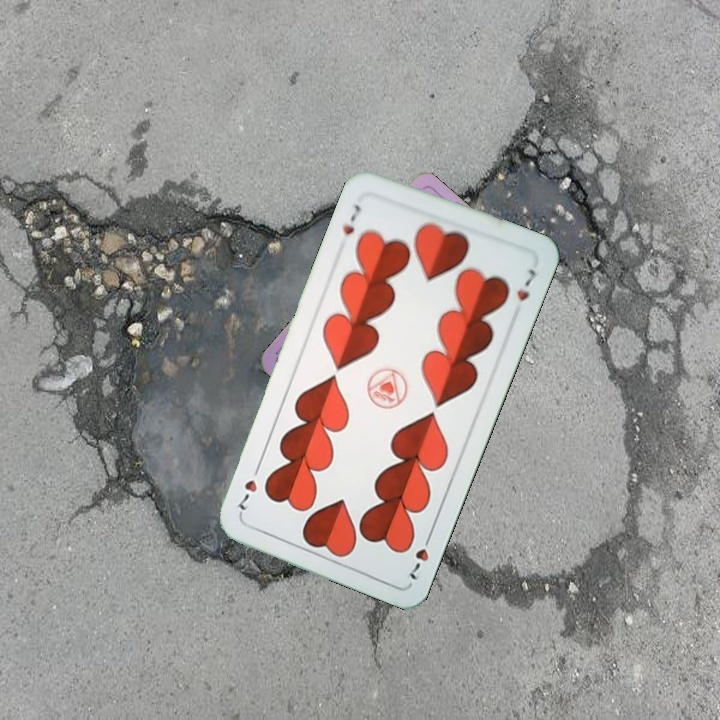H7: (405, 528, 435, 583), (338, 200, 363, 239)
